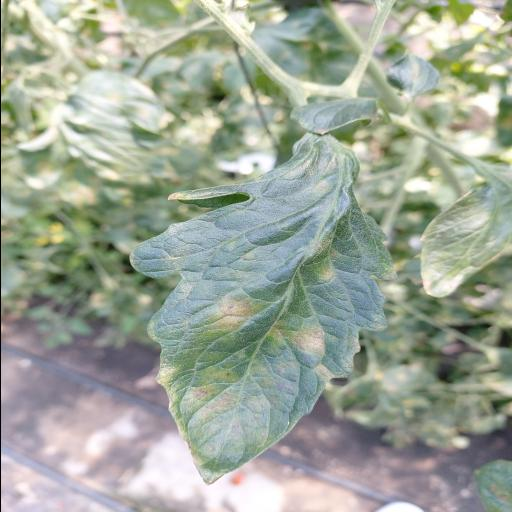disease_tomato: (128, 132, 396, 484)
